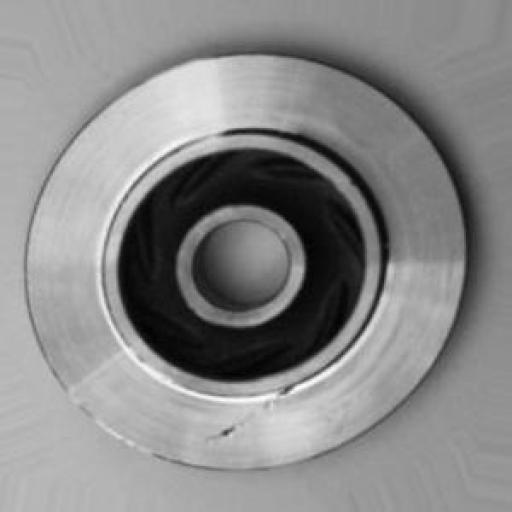defect: (183, 374, 311, 457)
